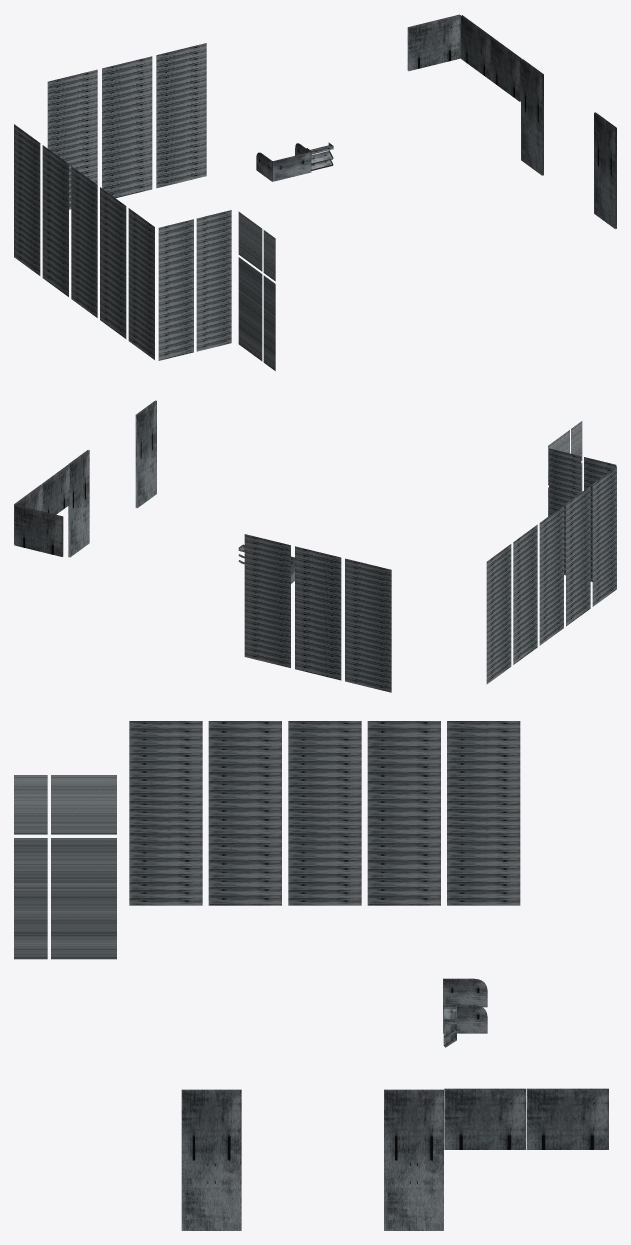
The model's file is store_70.obj.
The picture shows the model from 3 angles, top to bottom: view 1: azimuth 30°, elevation 25°; view 2: azimuth 150°, elevation 25°; view 3: azimuth 270°, elevation 25°; orthographic projection. The views are drawn at different scales.
Size of the model in its own units: 802 by 212 by 629.
